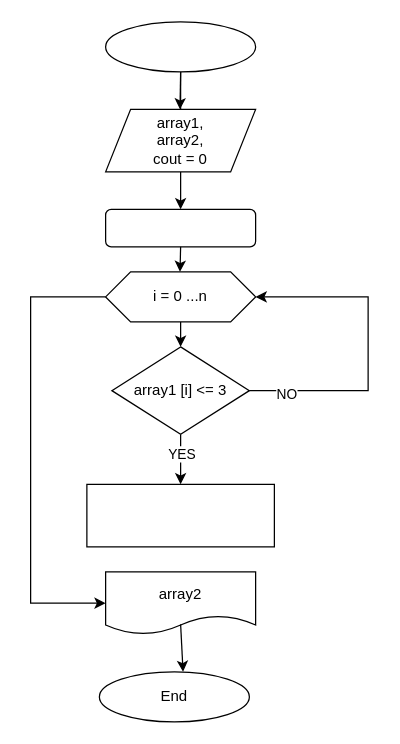
Some shapes in this 400 by 744 pixel diagram are drawn without their labels. Here are the shapes that lost their labels. From the top down, the box of each, then its label:
(104, 21, 256, 72): Start
(104, 208, 256, 247): SecondArray
(86, 483, 274, 547): array2[count] = array1[i] count = count +1
